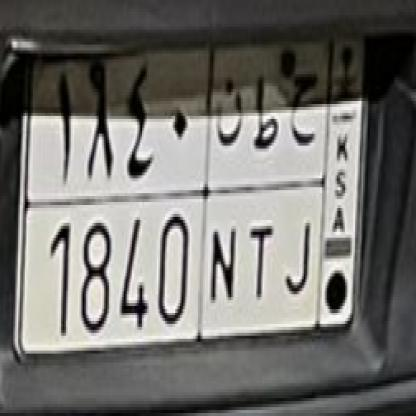english: (19, 185, 328, 332)
